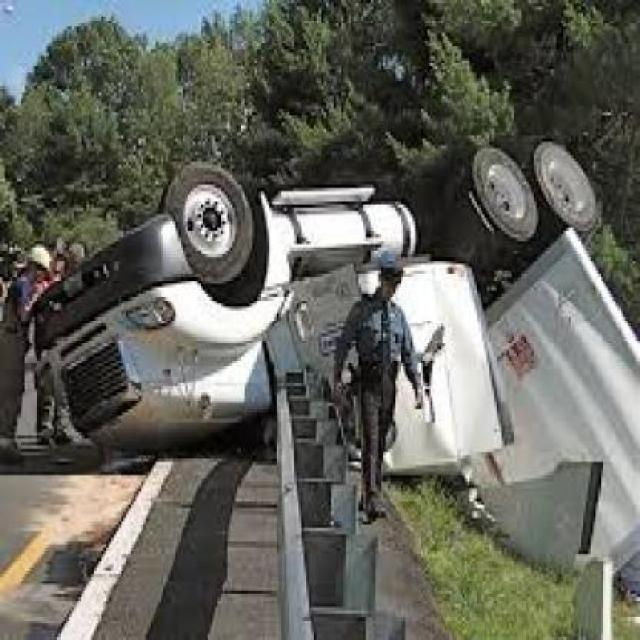accident: (15, 186, 640, 589)
